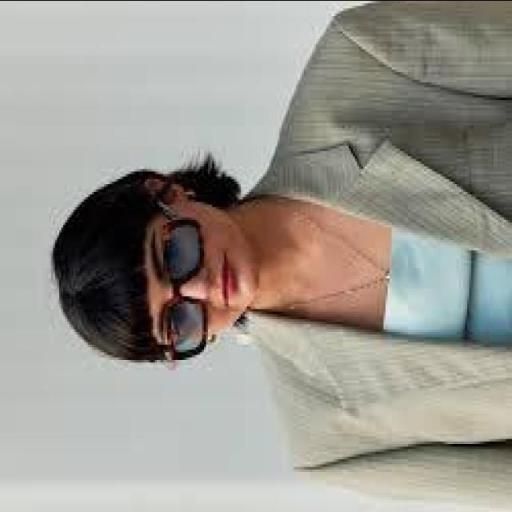glasses: (151, 194, 214, 387)
